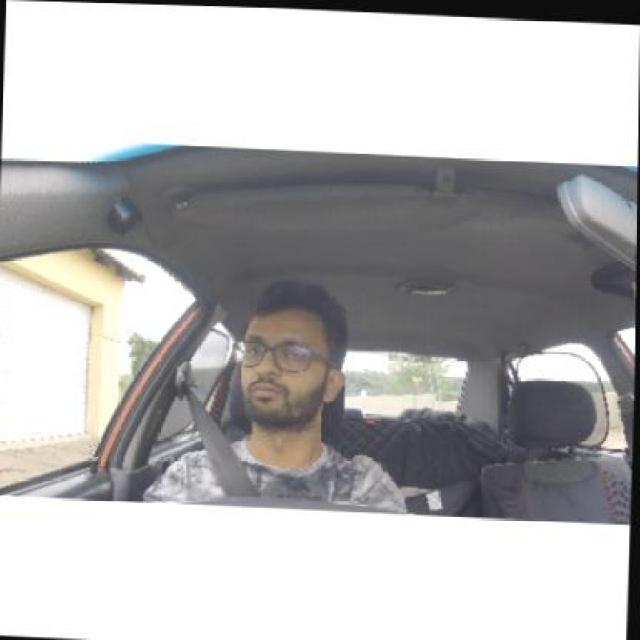person: (231, 277, 351, 437)
